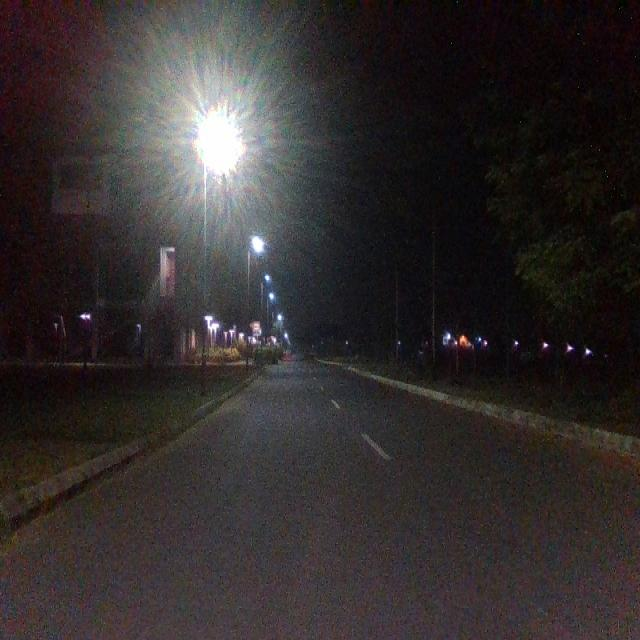lane: (0, 369, 549, 640)
